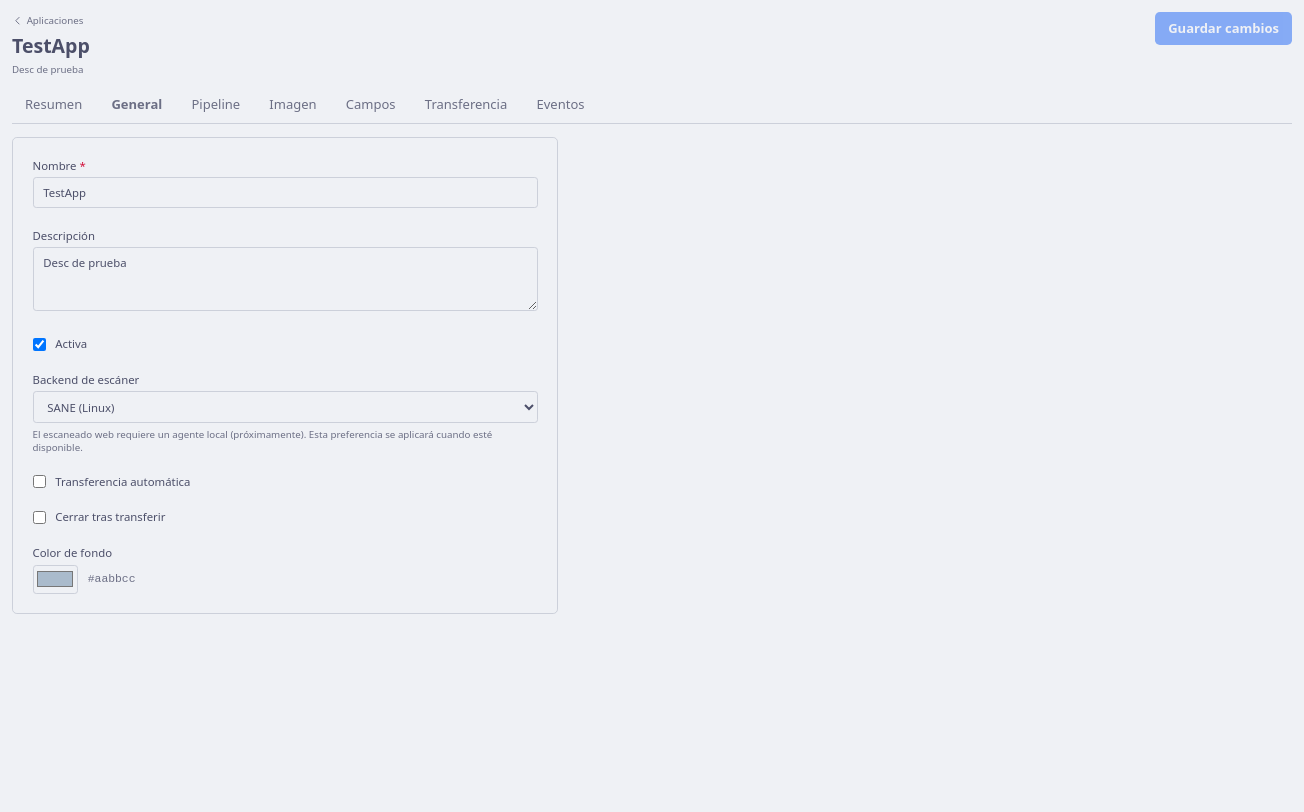
Test: GeneralConfigEditorView › 8. tras guardar, hasChanges vuelve a false y el botón queda deshabilitado
This screenshot has width=1304, height=812.
Replace the text in the field with test id "field-name" with "OtroNombre". click: (285, 193)
box: [32, 177, 538, 208]
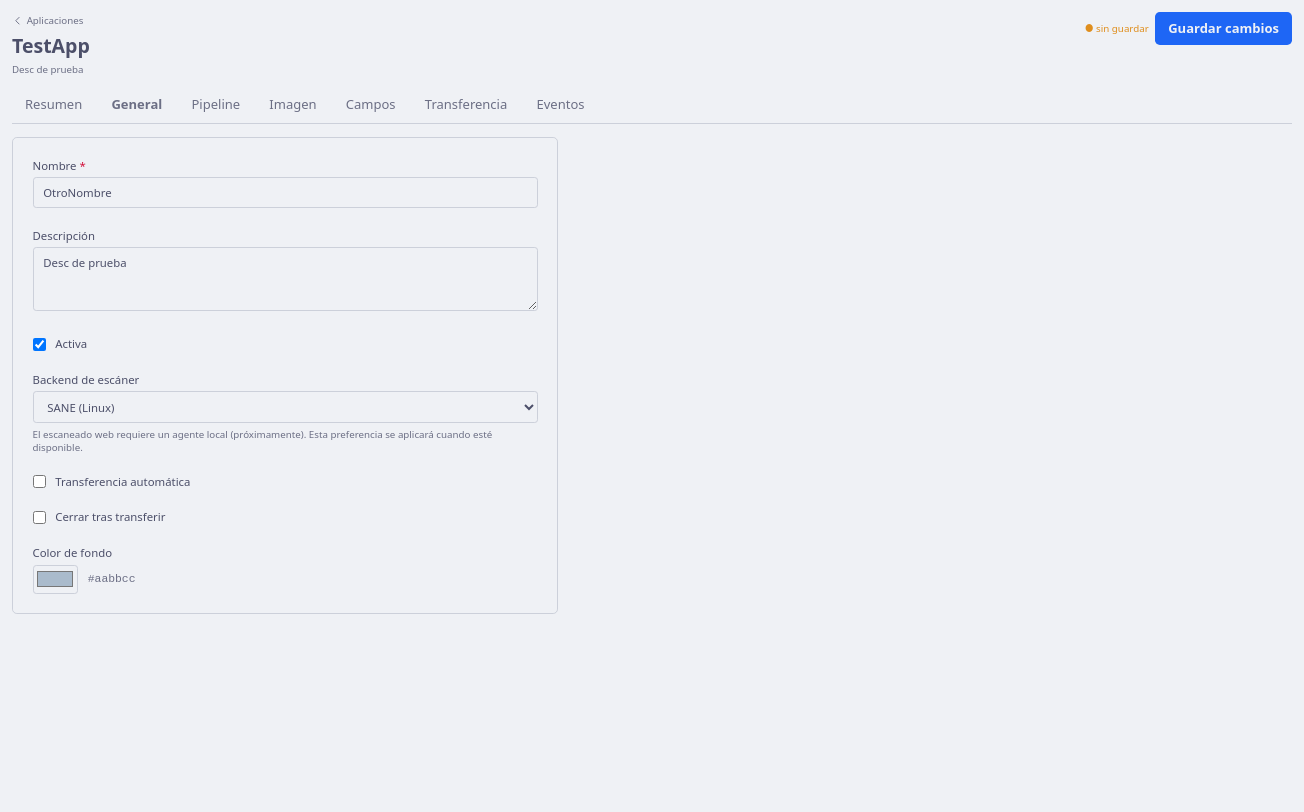
expect the button with test id "save-general" is enabled: met
Click the button with test id "save-general". click: (1224, 28)
box: [1155, 12, 1292, 44]
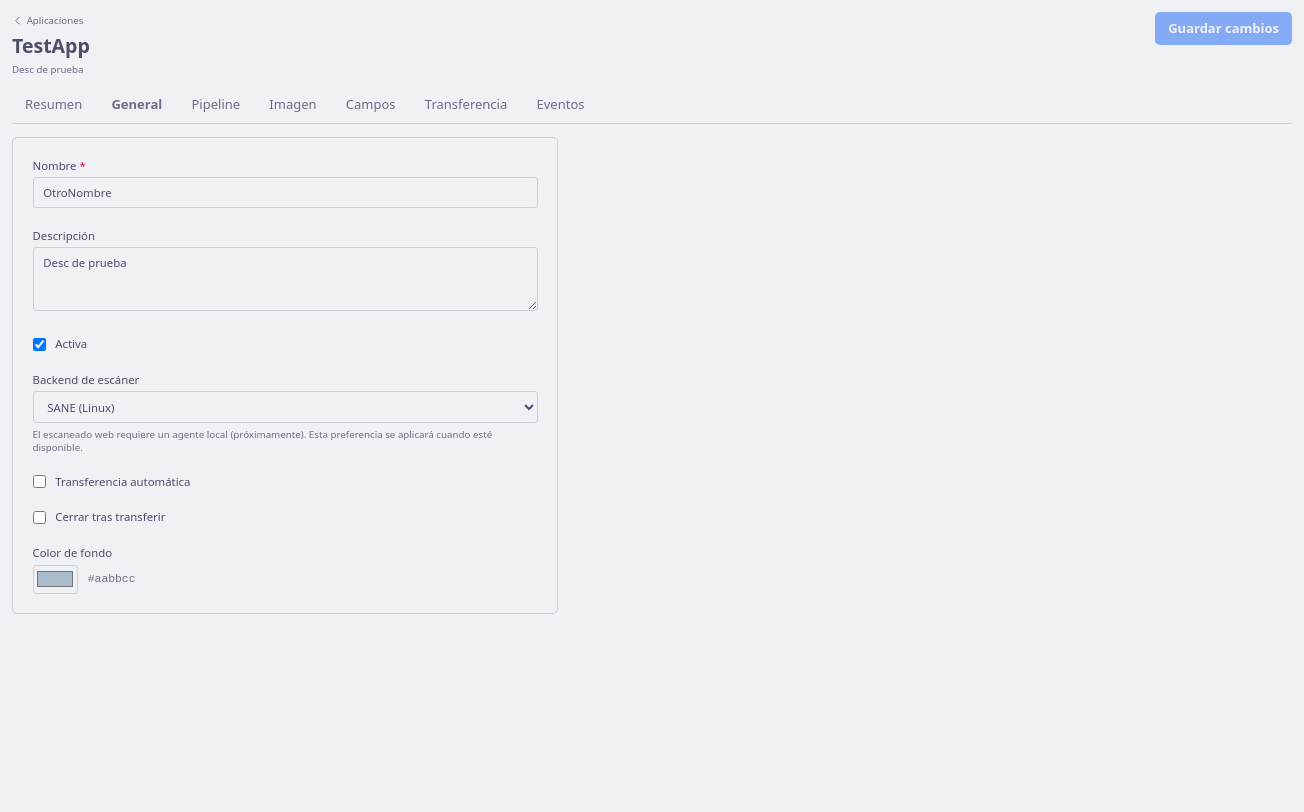
expect the button with test id "save-general" is disabled: met, box [1155, 12, 1292, 44]
